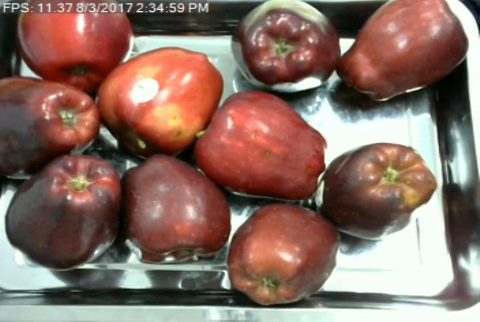Apple: (191, 89, 330, 202), (92, 46, 227, 158), (3, 150, 125, 273), (333, 0, 471, 104), (117, 149, 234, 266), (222, 200, 344, 310), (319, 141, 440, 242), (228, 0, 344, 95), (13, 0, 134, 89), (0, 74, 104, 171)
